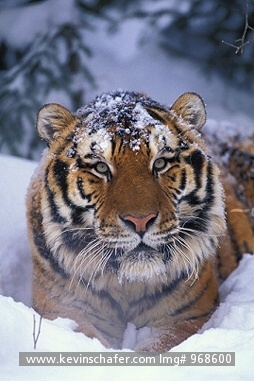tigre: (22, 84, 253, 357)
